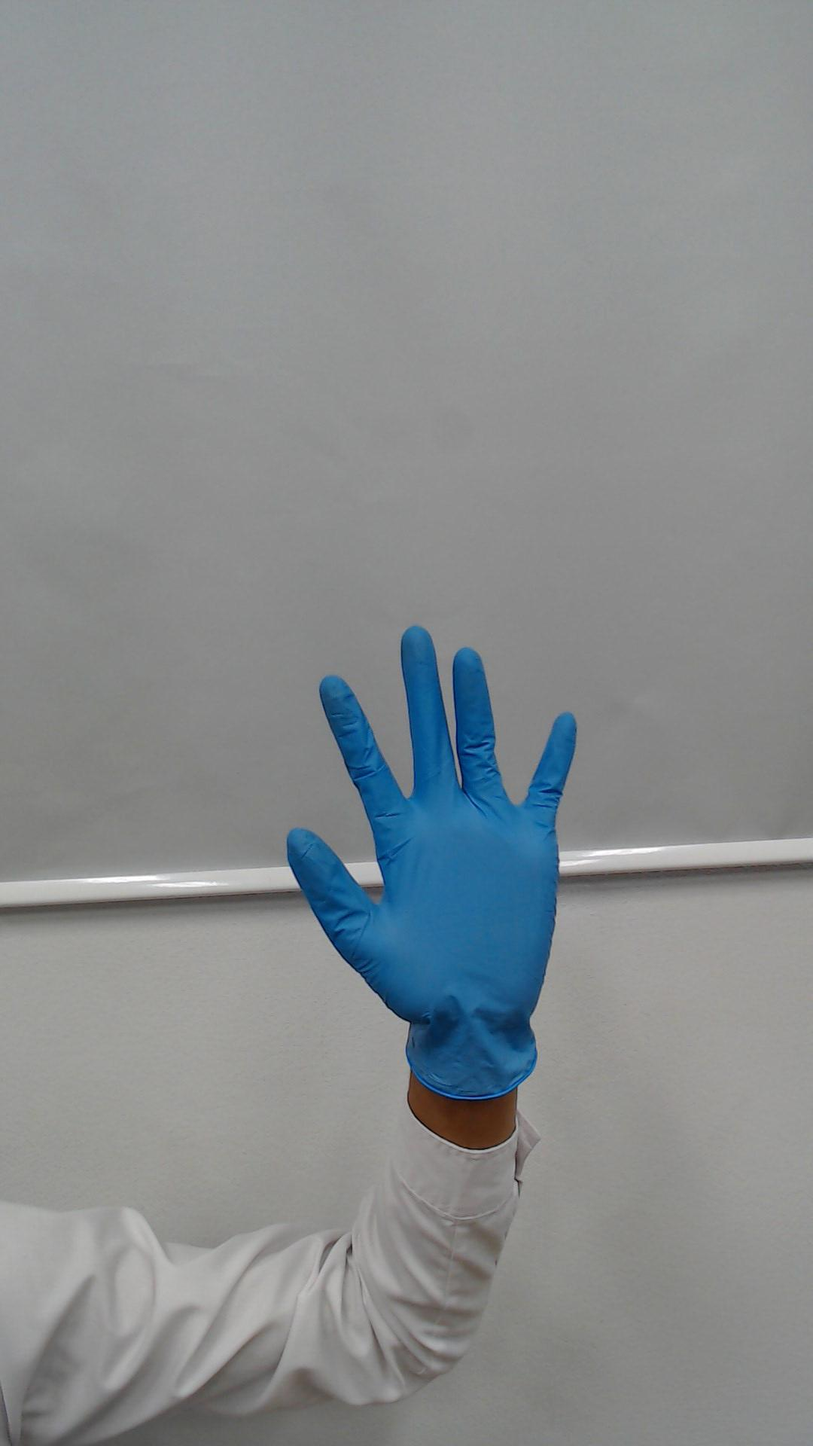gloves: (262, 590, 613, 1017)
